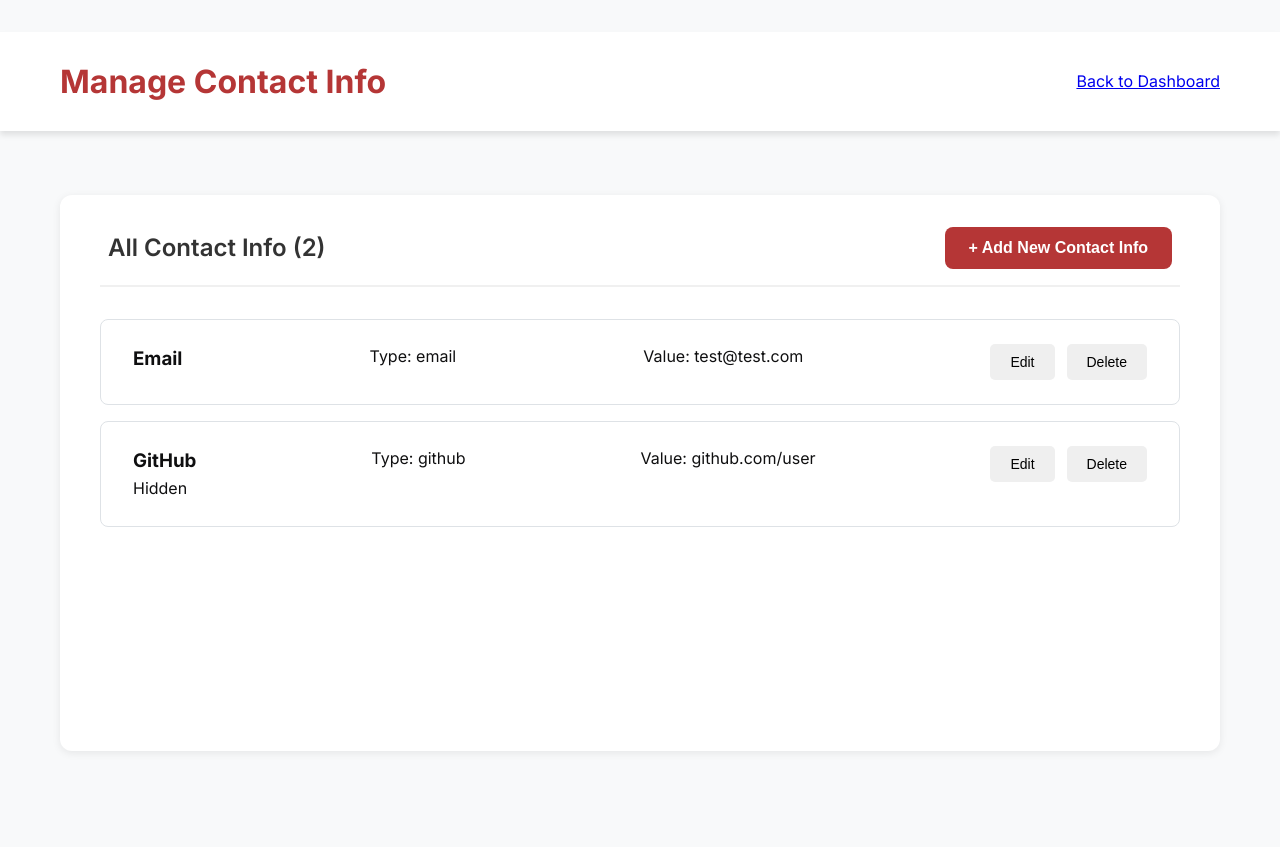
Test: AdminContactInfo › handles create error with message fallback
Click the button "+ Add New Contact Info".
click(1058, 248)  # box [945,227,1172,269]
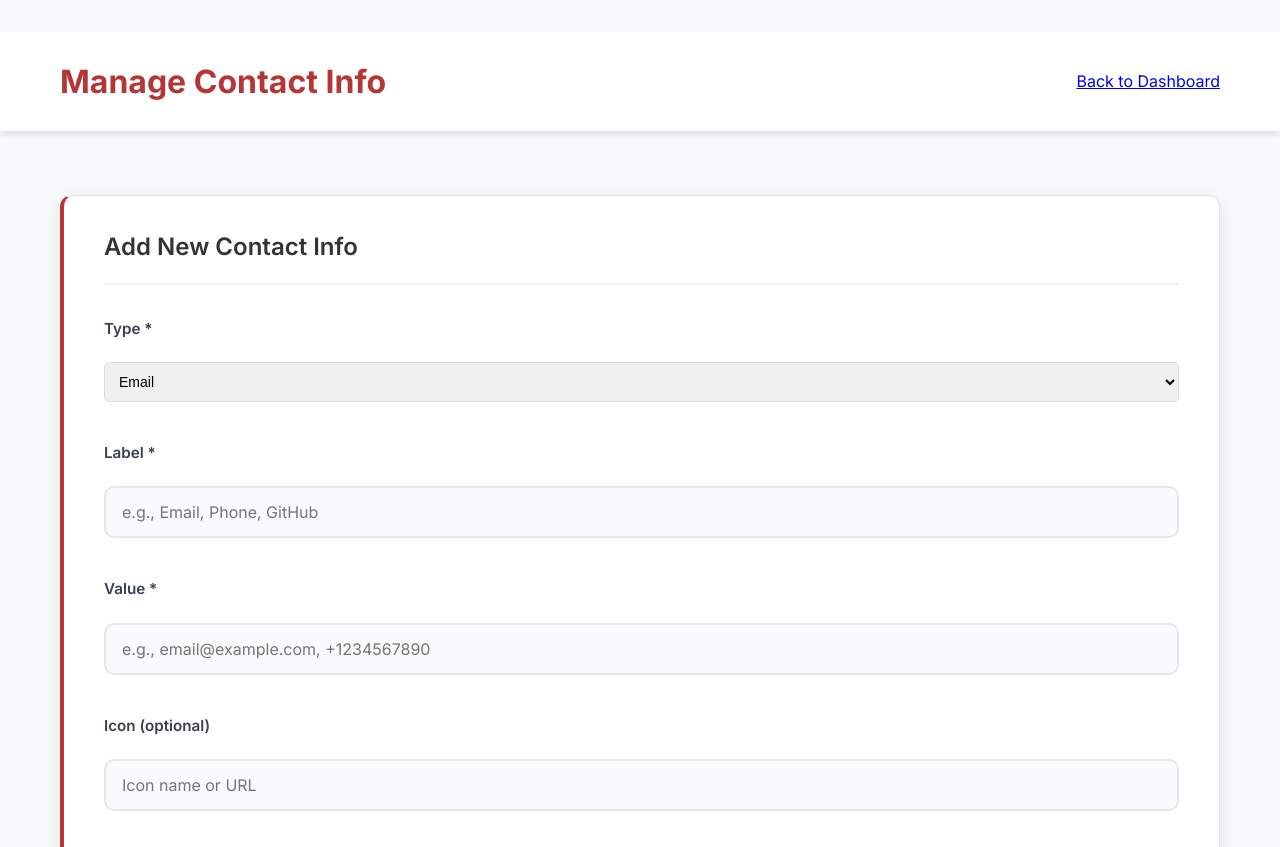
Type "X" into the field labelled "Label *".
click(642, 512); type("X")  # box [104,486,1179,538]
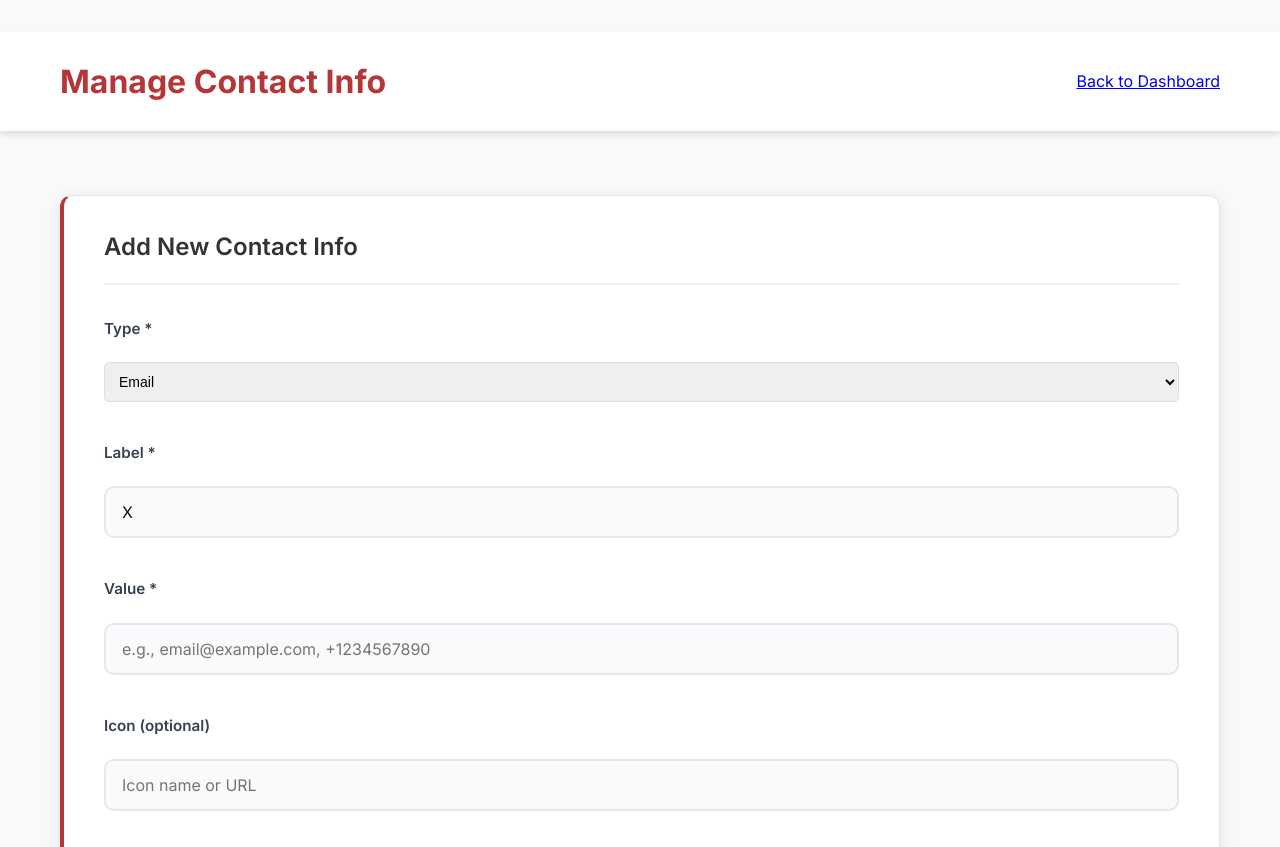
Type "X" into the field labelled "Value *".
click(642, 648); type("X")  # box [104,622,1179,674]
(page scrolled)
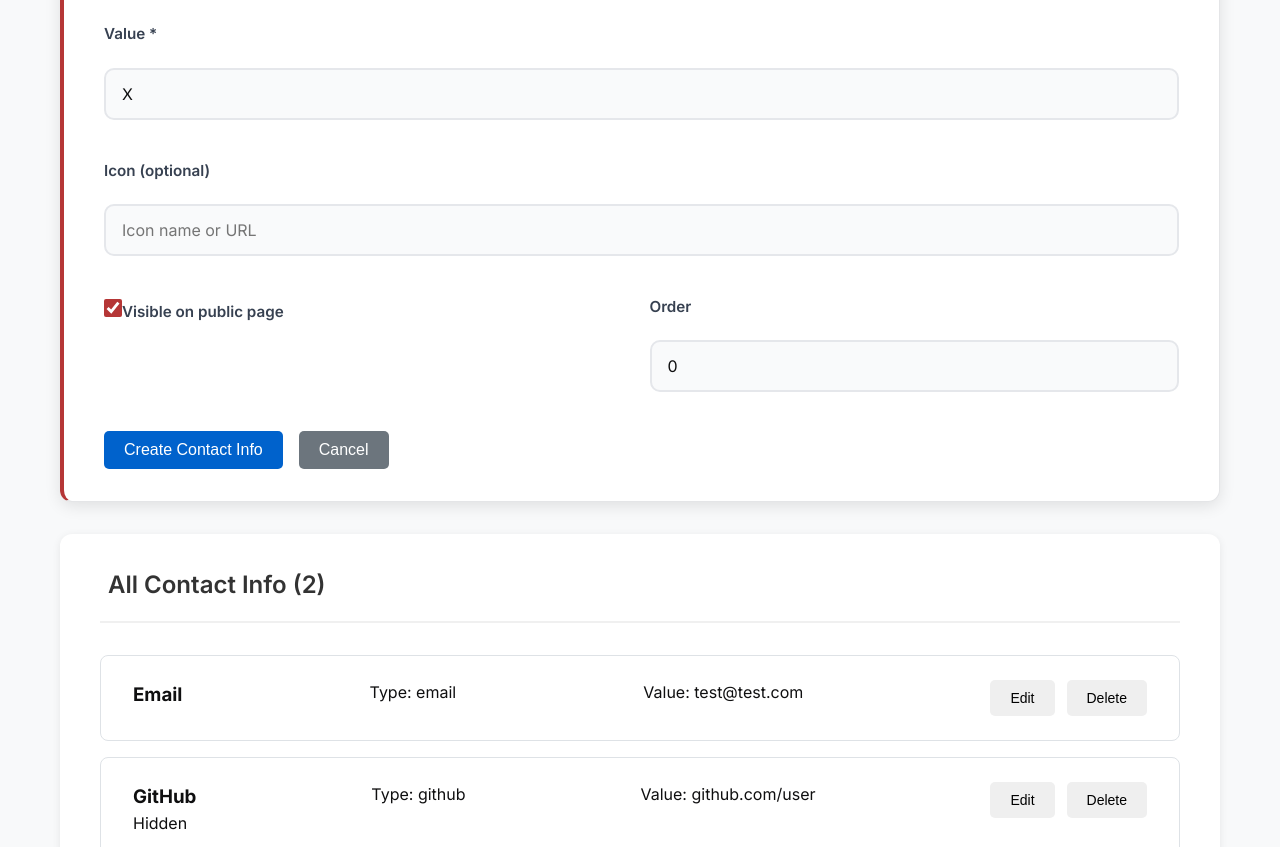
Click the button "Create Contact Info".
click(193, 450)  # box [104,431,283,469]
(page scrolled)
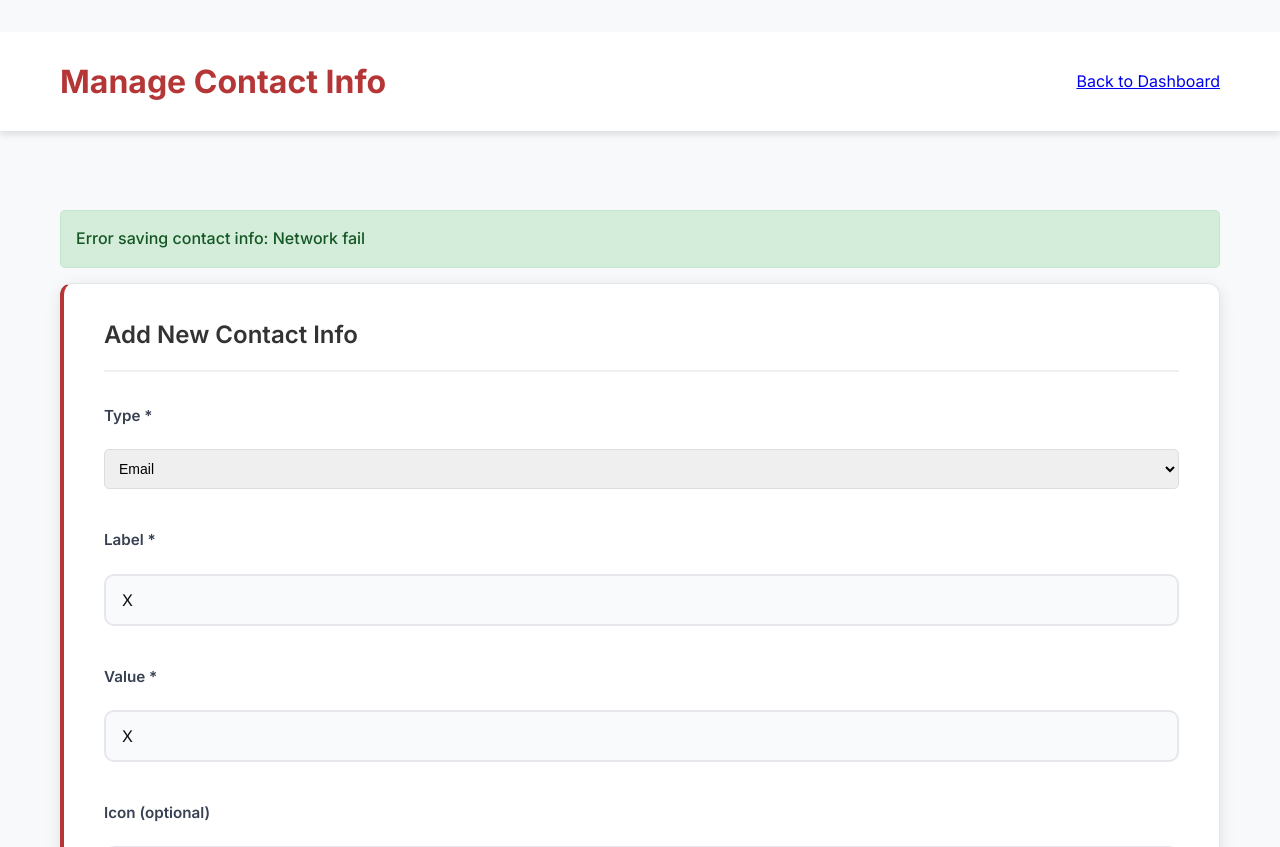
Now the text "Error saving contact info: Network fail" is shown, box [60,210,1220,268]
